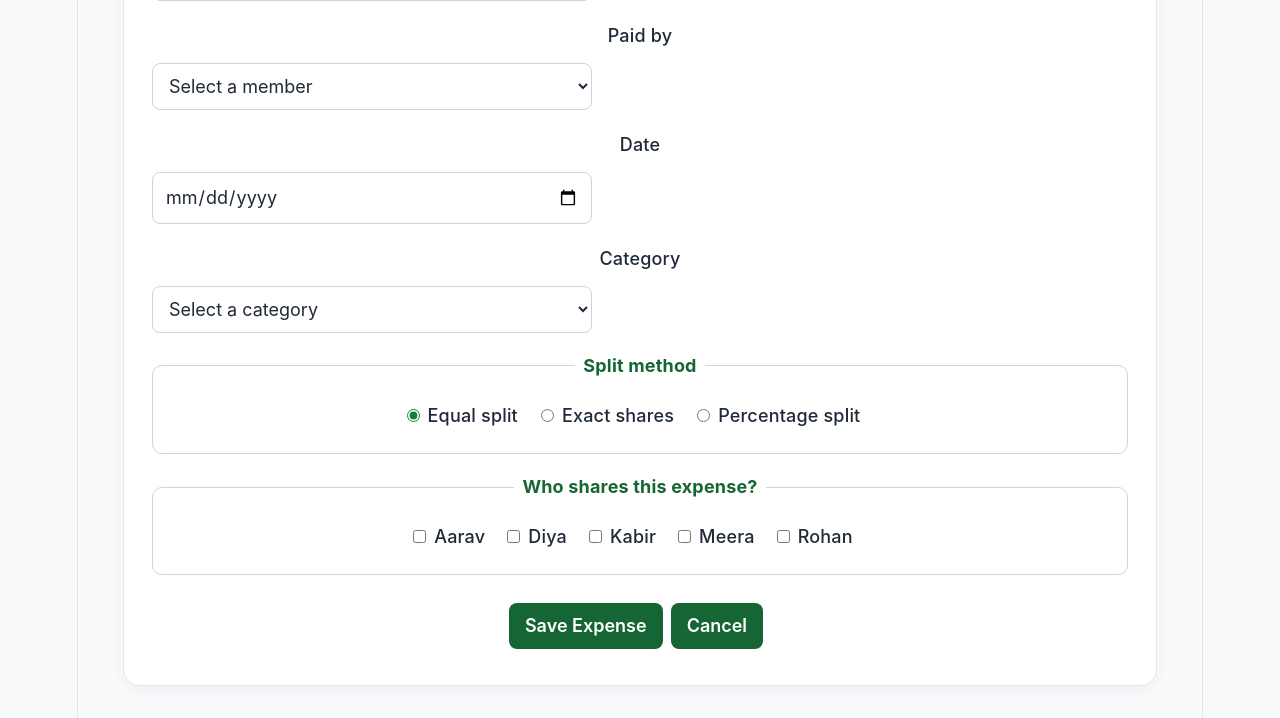
Scenario: Add Expense form › shows validation errors when required fields are empty
(page scrolled)
Click the button "Save Expense": (586, 626) [509,603,663,649]
(page scrolled)
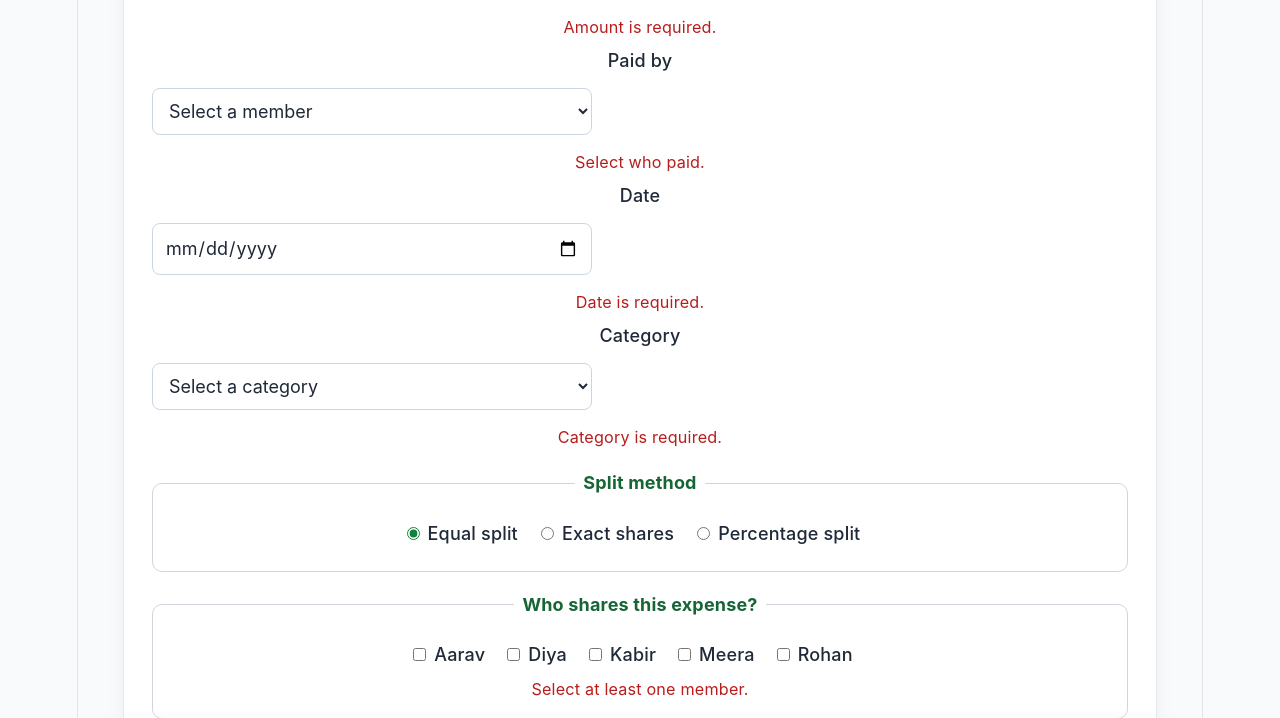
Check: the text "Amount is required." is shown, box [564,17,716,37]
Check: the text "Select who paid." is shown, box [575,152,705,172]
Check: the text "Date is required." is shown, box [576,292,704,312]
